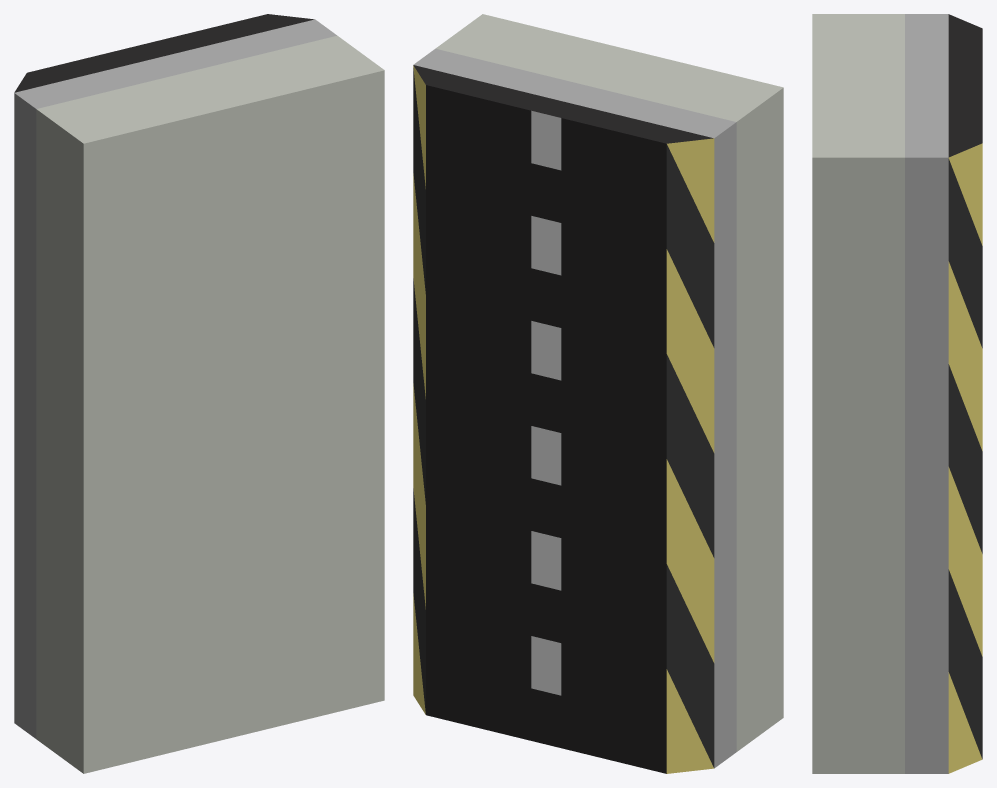
Rendered from forklift_path_floor.fbx.
3 views of the same model, side by side, from view 1: azimuth 30°, elevation 25°; view 2: azimuth 150°, elevation 25°; view 3: azimuth 270°, elevation 25° (orthographic). The views are drawn at different scales.
Parts seen in each view (by area): view 1: Cube; view 2: Cube; view 3: Cube.
Boxes of the visible parts, x1,y1,x2,y2 form: Cube: (14, 14, 384, 773); Cube: (413, 14, 783, 773); Cube: (812, 14, 982, 773).
Size of the model in its own units: 100 by 200 by 50.
